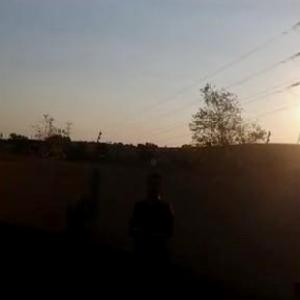follow: (123, 168, 180, 299)
